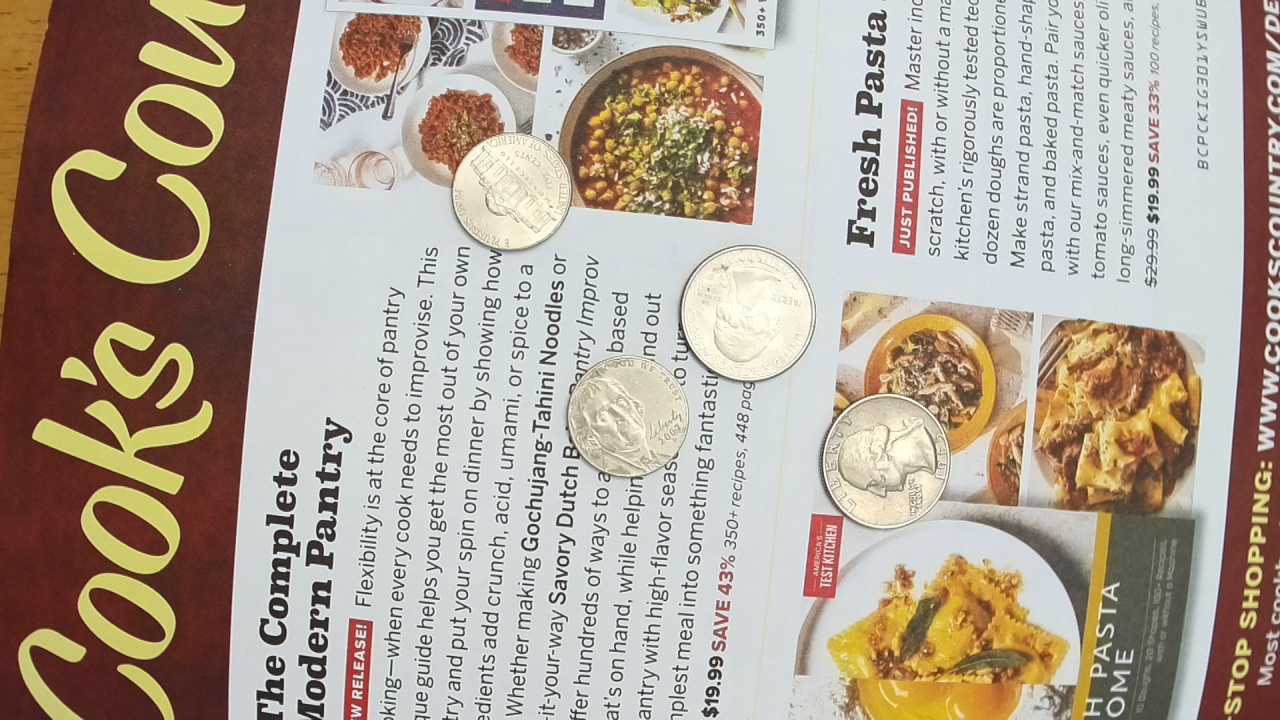nickel: (445, 130, 579, 254), (567, 346, 685, 486)
quarter: (680, 241, 814, 385), (819, 389, 949, 531)
